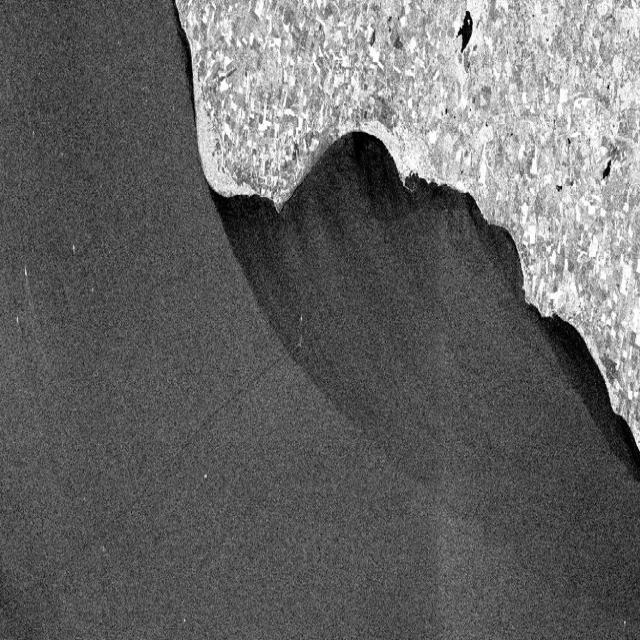look-alike: (547, 318, 638, 486), (303, 143, 402, 237), (217, 188, 287, 256), (166, 11, 200, 108)
